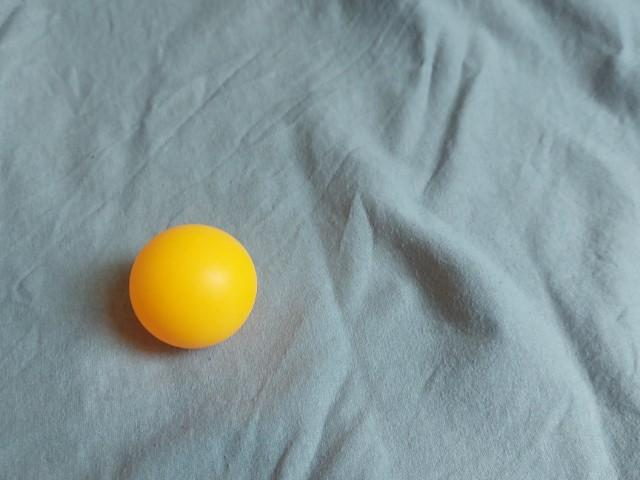oball: (120, 217, 265, 360)
